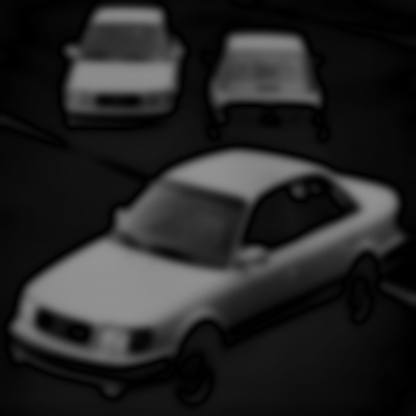Vehicle: (10, 146, 406, 412)
